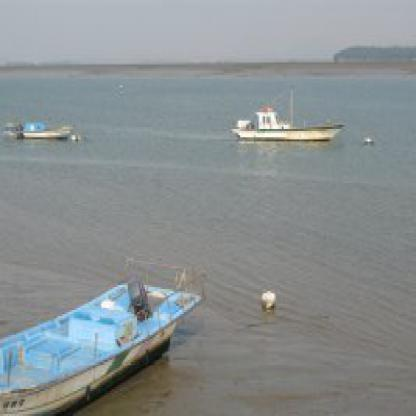fish-b: (0, 250, 207, 414), (228, 79, 352, 154), (3, 96, 84, 150)
